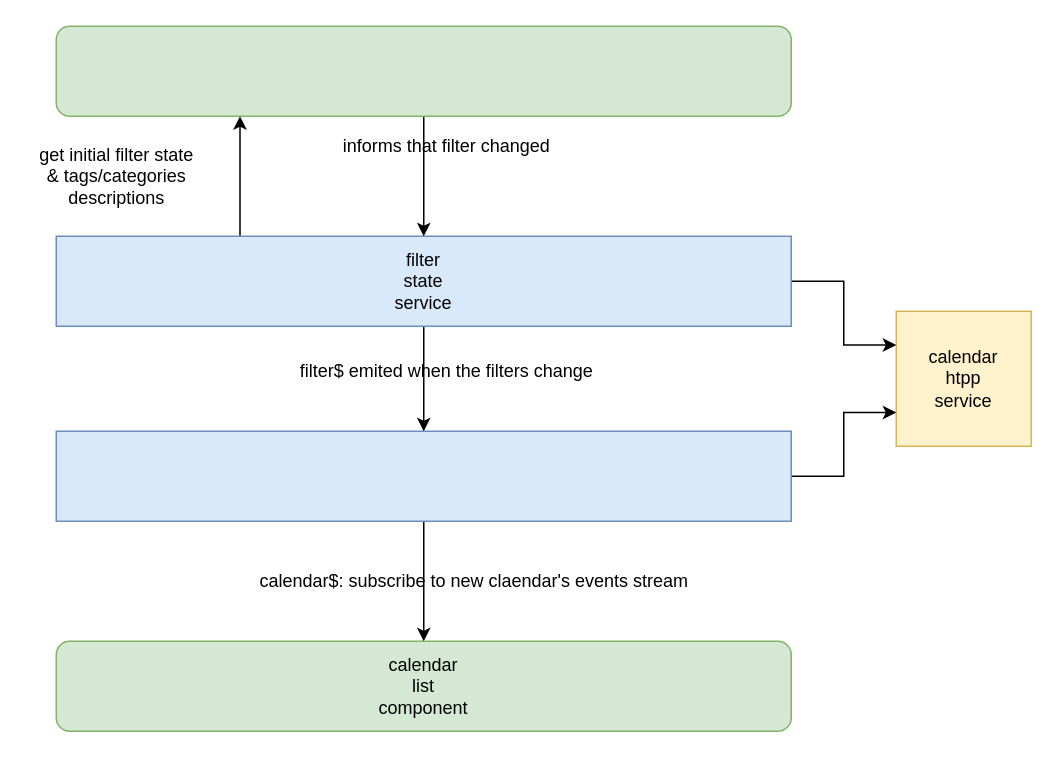
Image size: 1058x758. Some labels were removed from this diagram. Each missing label, with the centre of its shape:
"calendar fachade service" belongs at [423,475].
"filtert component" belongs at [423,70].
